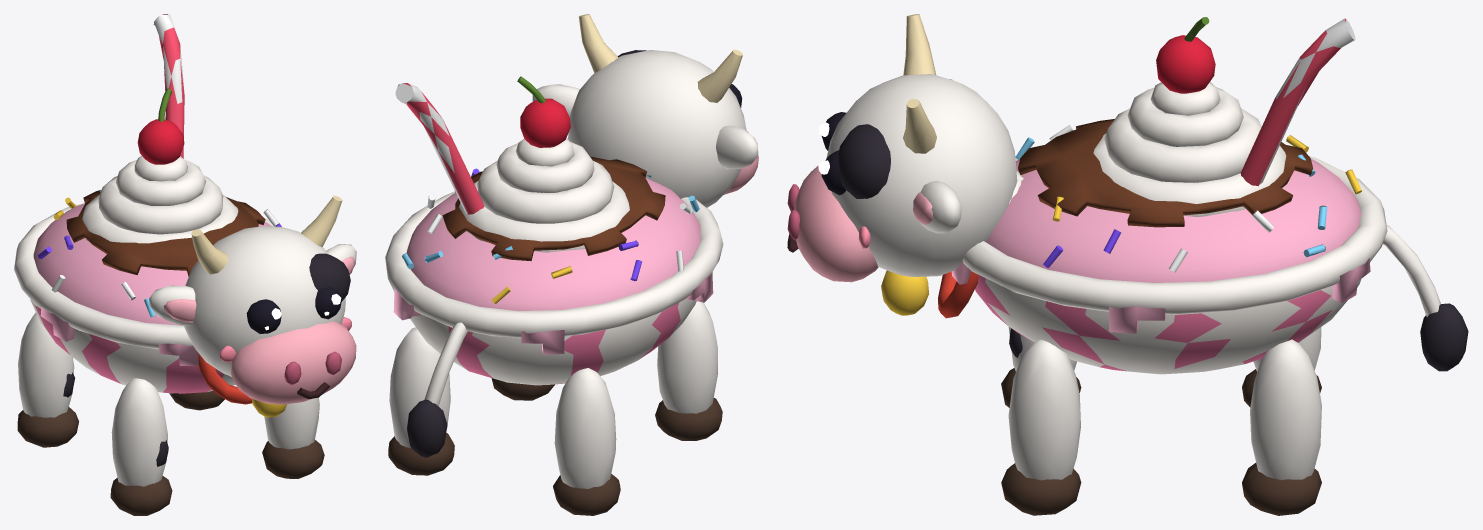
Rendered from pilot_ku_milkshake_lav.glb.
3 views of the same model, side by side, from view 1: azimuth 30°, elevation 25°; view 2: azimuth 150°, elevation 25°; view 3: azimuth 270°, elevation 25° (orthographic). The views are drawn at different scales.
Parts seen in each view (by area): view 1: kropp, hode, bein_vf, bein_vb, bein_hf, bein_hb; view 2: kropp, hode, bein_vb, bein_vf, bein_hb, hale, bein_hf; view 3: kropp, hode, bein_hf, bein_hb, hale, bein_vf, bein_vb.
Part boxes in pixels (left/top/right/bottom): kropp: left=14, top=14, right=281, bottom=393; hode: left=149, top=196, right=356, bottom=417; bein_vf: left=110, top=378, right=172, bottom=515; bein_vb: left=17, top=312, right=78, bottom=447; bein_hf: left=262, top=397, right=324, bottom=478; bein_hb: left=169, top=391, right=224, bottom=410; kropp: left=385, top=76, right=723, bottom=385; hode: left=532, top=14, right=758, bottom=207; bein_vb: left=553, top=368, right=620, bottom=515; bein_vf: left=655, top=301, right=722, bottom=440; bein_hb: left=388, top=327, right=454, bottom=475; hale: left=407, top=322, right=467, bottom=457; bein_hf: left=491, top=378, right=554, bottom=400; kropp: left=951, top=17, right=1387, bottom=374; hode: left=787, top=14, right=1023, bottom=318; bein_hf: left=1001, top=339, right=1081, bottom=515; bein_hb: left=1242, top=339, right=1321, bottom=515; hale: left=1383, top=225, right=1468, bottom=371; bein_vf: left=1001, top=327, right=1081, bottom=407; bein_vb: left=1242, top=327, right=1321, bottom=407.
Bounding box in the file's own units: 0.9496 × 1.33 × 1.7.
